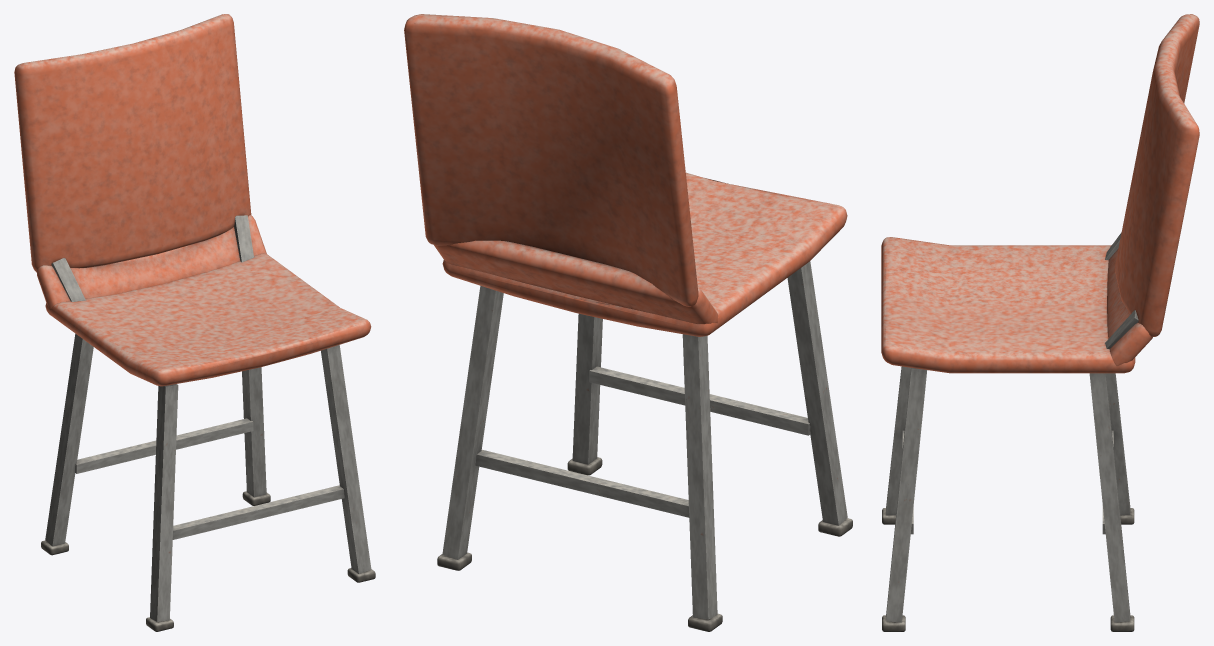
The model's file is giant_chair.fbx.
3 views of the same model, side by side, from view 1: azimuth 30°, elevation 25°; view 2: azimuth 150°, elevation 25°; view 3: azimuth 270°, elevation 25° (orthographic). The views are drawn at different scales.
Parts seen in each view (by area): view 1: Body; view 2: Body; view 3: Body.
Part boxes in pixels (<box>): Body: <box>14,14,375,631</box>; Body: <box>404,14,852,631</box>; Body: <box>881,14,1199,631</box>.
Bounding box in the file's own units: 8.75 × 17.74 × 10.03.
1 material, 1 textured.
